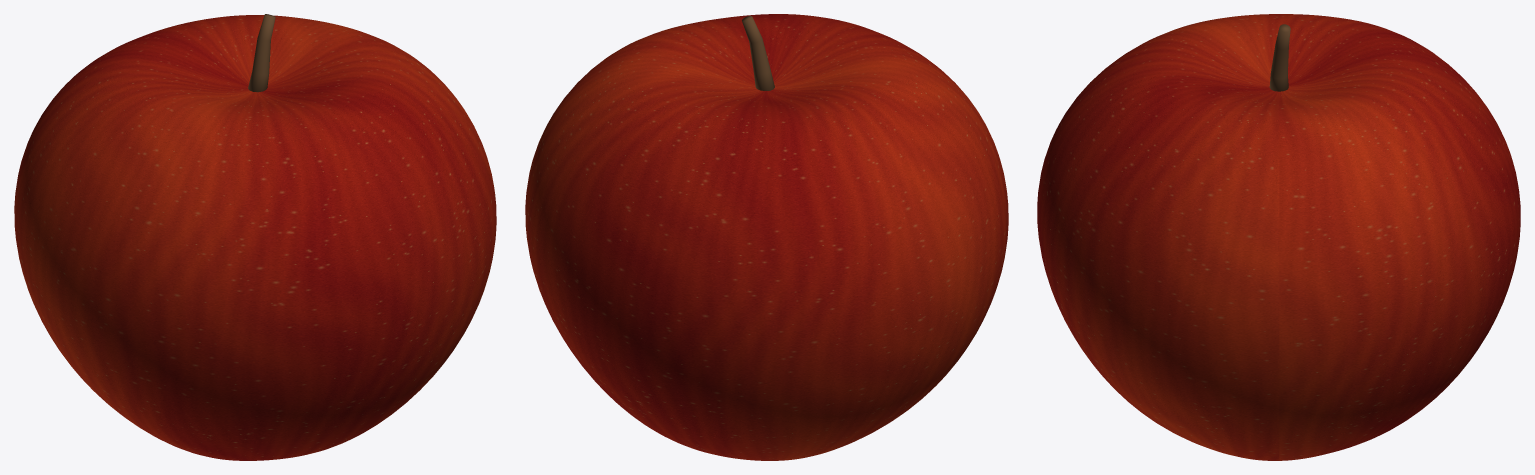
The model's file is published_before.glb.
3 renders of one model, left to right at view 1: azimuth 30°, elevation 25°; view 2: azimuth 150°, elevation 25°; view 3: azimuth 270°, elevation 25°, orthographic.
Parts seen in each view (by area): view 1: Gently asymmetric apple skin, Curved short stalk; view 2: Gently asymmetric apple skin, Curved short stalk; view 3: Gently asymmetric apple skin, Curved short stalk.
Boxes of the visible parts, <box> form: Gently asymmetric apple skin: <box>14,15,496,460</box>; Curved short stalk: <box>248,14,275,92</box>; Gently asymmetric apple skin: <box>525,14,1008,460</box>; Curved short stalk: <box>742,16,774,90</box>; Gently asymmetric apple skin: <box>1037,14,1520,460</box>; Curved short stalk: <box>1269,24,1290,91</box>.
Size of the model in its own units: 0.0844 by 0.0793 by 0.0844.
4 materials, 1 textured.
